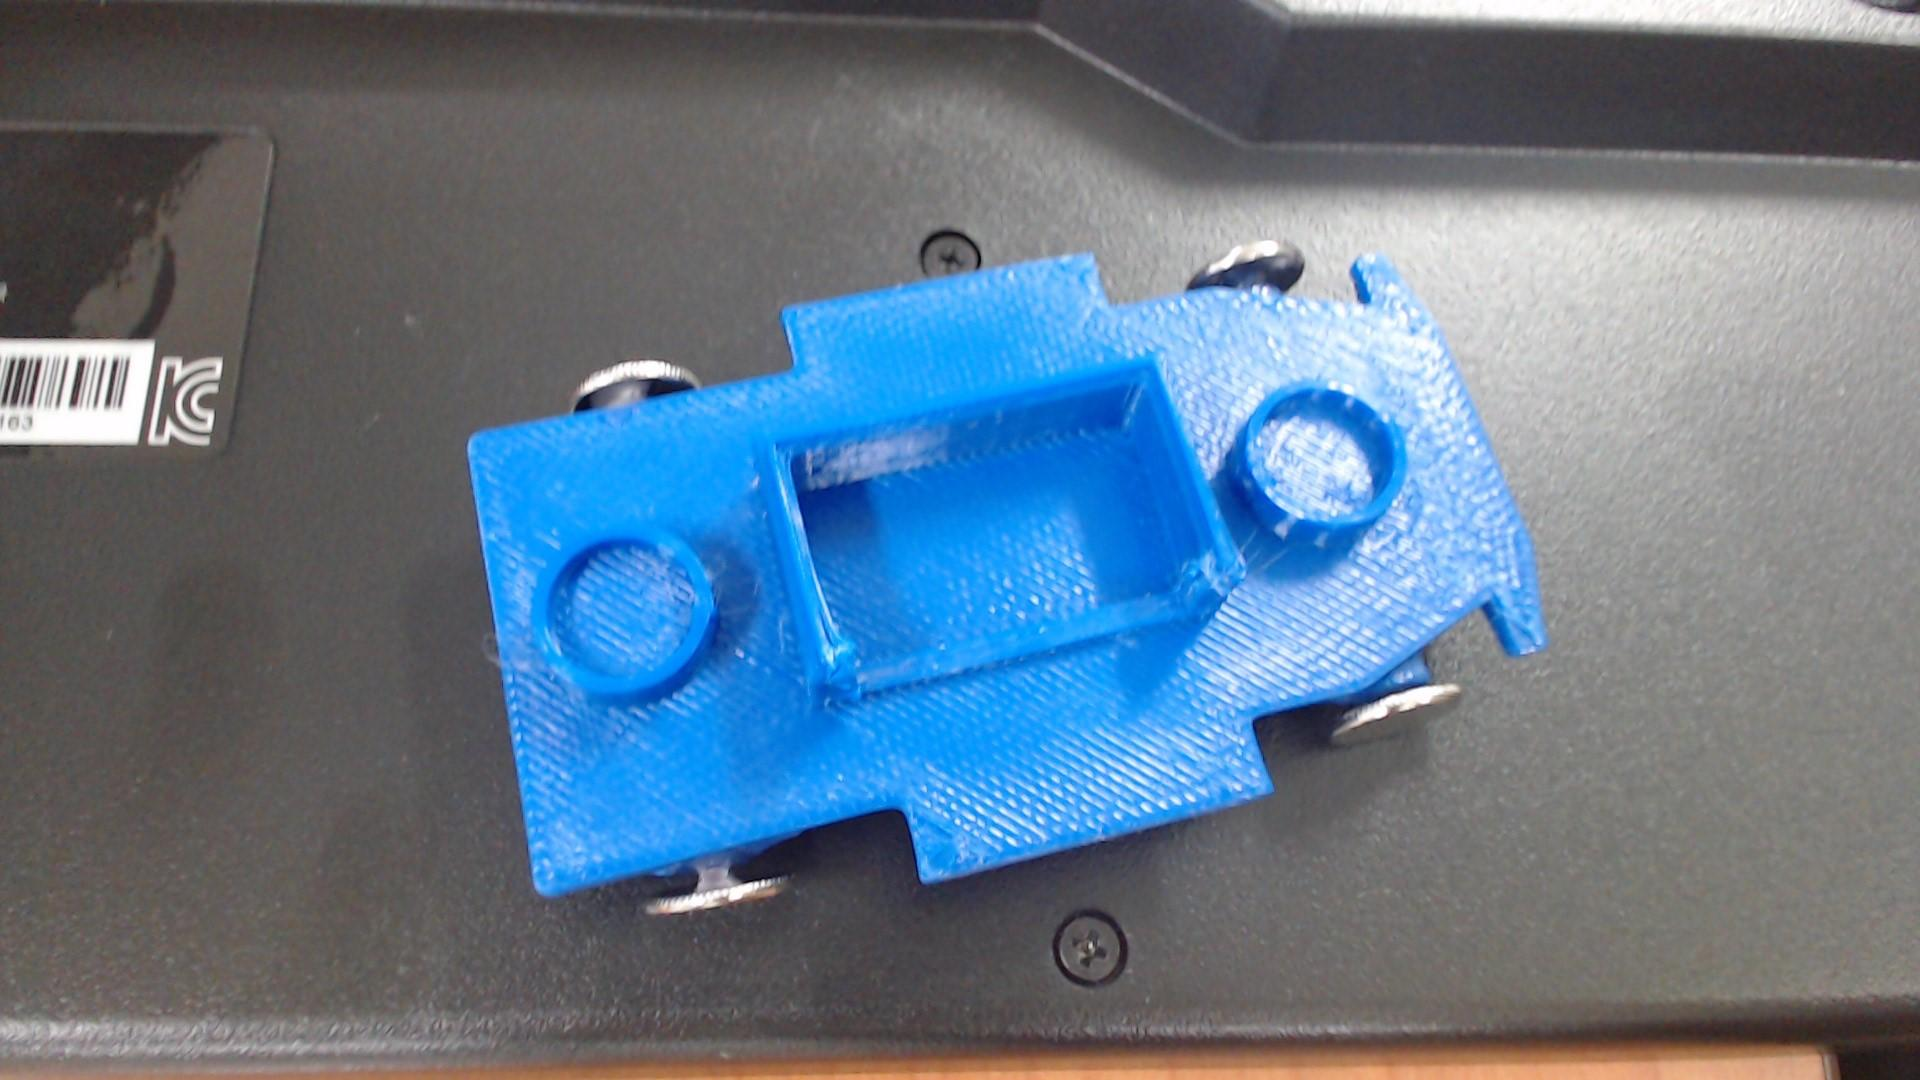lower_ng: (762, 334, 1262, 724)
